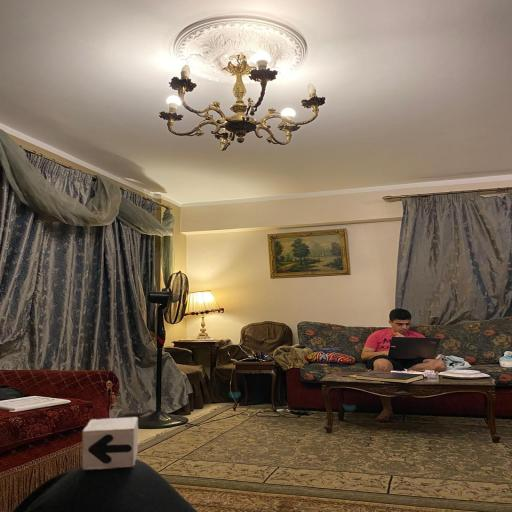Back: (80, 416, 140, 471)
